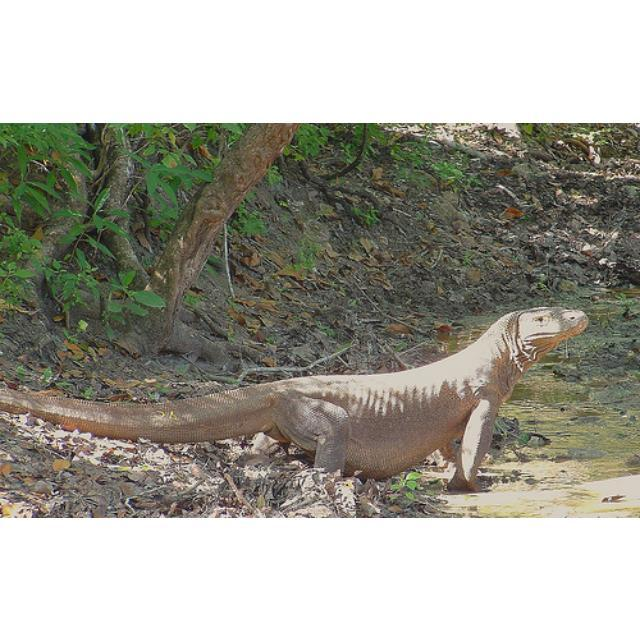KomodoDragon: (0, 303, 590, 491)
